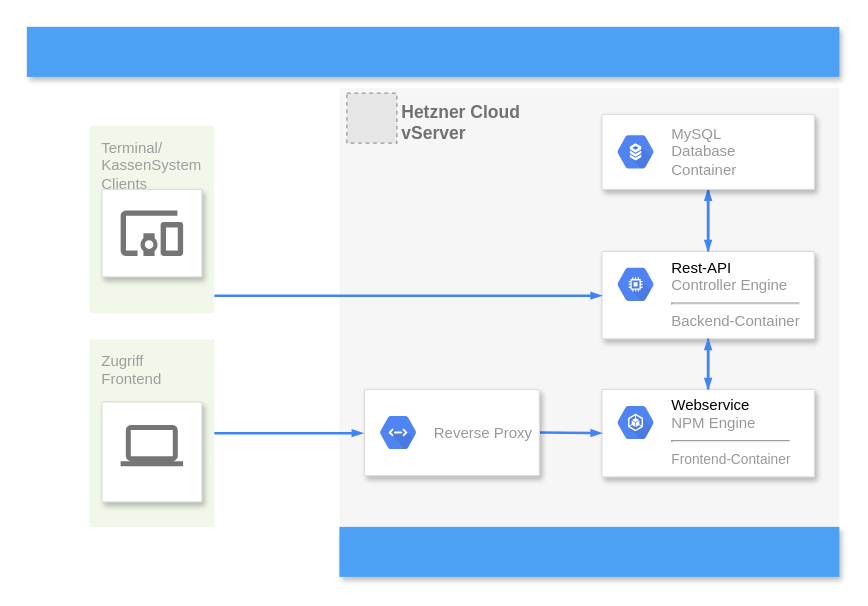
Some shapes in this 868 by 606 pixel diagram are drawn without their labels. Grey dashed boxes stand in for pictures. Each missing label, with the centre of its shape:
"Architecture: Backup and Archive > API Hosting" goes at pixel 433 53.
"Docker Engine" goes at pixel 590 553.
